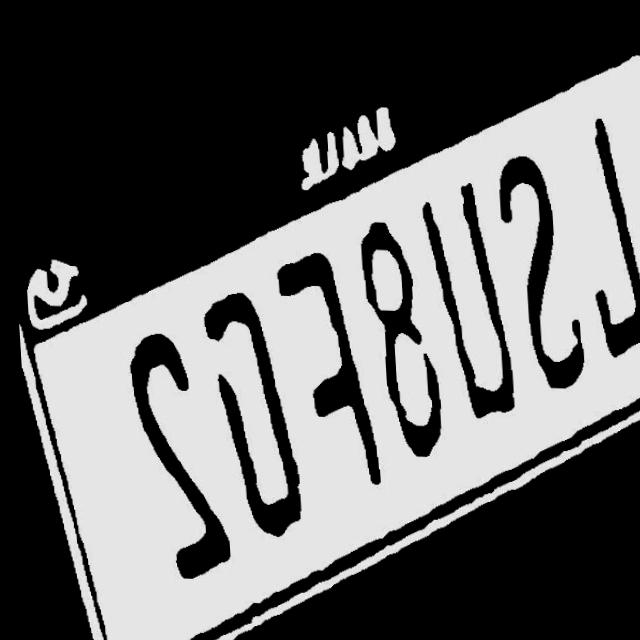0: (196, 290, 301, 537)
2: (124, 331, 227, 581)
8: (352, 220, 443, 456)
f: (271, 249, 376, 485)
l: (575, 111, 640, 354)
s: (493, 150, 582, 390)
u: (418, 180, 513, 416)
